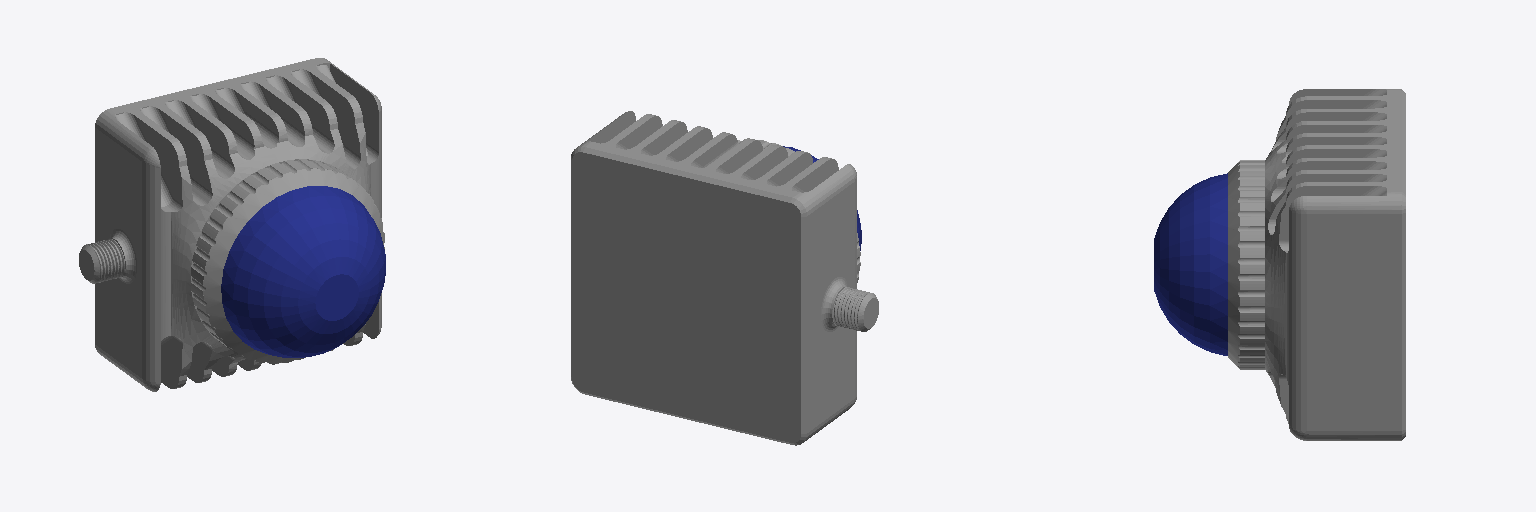
File: LIVOX.obj
3 renders of one model, left to right at view 1: azimuth 30°, elevation 25°; view 2: azimuth 150°, elevation 25°; view 3: azimuth 270°, elevation 25°, orthographic.
Parts seen in each view (by area): view 1: Body1; view 2: Body1; view 3: Body1.
Boxes of the visible parts, x1=… form: Body1: x1=79, y1=58, x2=385, y2=391; Body1: x1=571, y1=111, x2=878, y2=445; Body1: x1=1154, y1=89, x2=1405, y2=440.
Size of the model in its own units: 7.5 by 6.5 by 6.